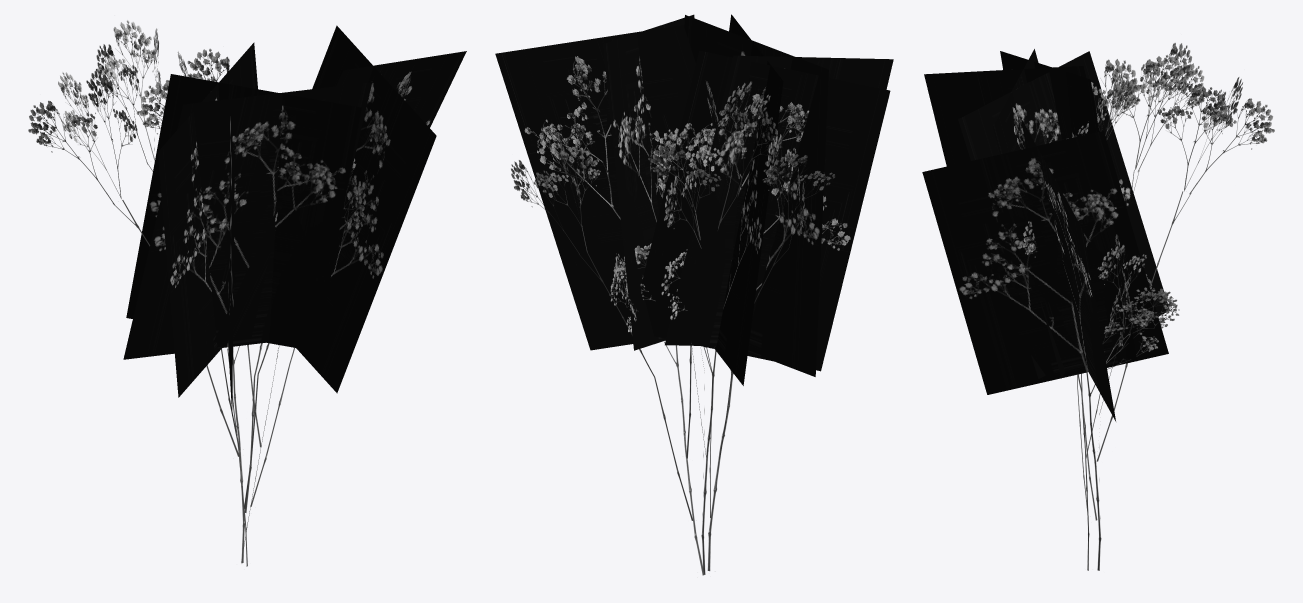
The model's file is babysBreath2.glb.
The picture shows the model from 3 angles, left to right: view 1: azimuth 30°, elevation 25°; view 2: azimuth 150°, elevation 25°; view 3: azimuth 270°, elevation 25°; orthographic projection. The views are drawn at different scales.
Visible parts, largest first — view 1: Plane.021, Plane.002, Plane.000, Plane.001, Plane.005, Plane.011, Plane.029, Plane.020, Plane.027, Plane.028, Plane.012, Plane.019 (+2 smaller); view 2: Plane.005, Plane.001, Plane.021, Plane.020, Plane.000, Plane.002, Plane.015, Plane.028, Plane.010, Plane.011, Plane.018, Plane.019 (+7 smaller); view 3: Plane.000, Plane.002, Plane.020, Plane.005, Plane.001, Plane.021, Plane.012, Plane.010, Plane.008, Plane.027, Plane.028, Plane.018 (+5 smaller).
Part boxes in pixels (bbox=[...]): Plane.021: bbox=[123, 82, 372, 359]; Plane.002: bbox=[126, 74, 361, 349]; Plane.000: bbox=[296, 25, 436, 393]; Plane.001: bbox=[158, 42, 257, 397]; Plane.005: bbox=[213, 51, 466, 342]; Plane.011: bbox=[97, 20, 154, 160]; Plane.029: bbox=[28, 100, 114, 205]; Plane.020: bbox=[227, 57, 234, 415]; Plane.027: bbox=[86, 70, 137, 198]; Plane.028: bbox=[58, 72, 121, 199]; Plane.012: bbox=[96, 44, 147, 164]; Plane.019: bbox=[136, 80, 169, 134]; Plane.005: bbox=[495, 25, 695, 350]; Plane.001: bbox=[630, 50, 890, 371]; Plane.021: bbox=[684, 15, 828, 376]; Plane.020: bbox=[665, 55, 893, 346]; Plane.000: bbox=[603, 14, 694, 350]; Plane.002: bbox=[714, 14, 783, 385]; Plane.015: bbox=[538, 146, 600, 252]; Plane.028: bbox=[762, 154, 835, 241]; Plane.010: bbox=[653, 128, 720, 239]; Plane.011: bbox=[648, 145, 721, 240]; Plane.018: bbox=[717, 81, 770, 191]; Plane.019: bbox=[732, 106, 781, 195]; Plane.000: bbox=[922, 131, 1168, 394]; Plane.002: bbox=[958, 51, 1169, 378]; Plane.020: bbox=[924, 66, 1099, 166]; Plane.005: bbox=[1021, 118, 1115, 421]; Plane.001: bbox=[1000, 51, 1136, 360]; Plane.021: bbox=[992, 49, 1065, 378]; Plane.012: bbox=[1189, 98, 1274, 194]; Plane.010: bbox=[1158, 86, 1229, 190]; Plane.008: bbox=[1106, 287, 1179, 369]; Plane.027: bbox=[1111, 55, 1186, 168]; Plane.028: bbox=[1135, 43, 1193, 169]; Plane.018: bbox=[1091, 59, 1142, 135].
Bounding box in the file's own units: 276 × 362 × 236.
4 materials, 4 textured.
